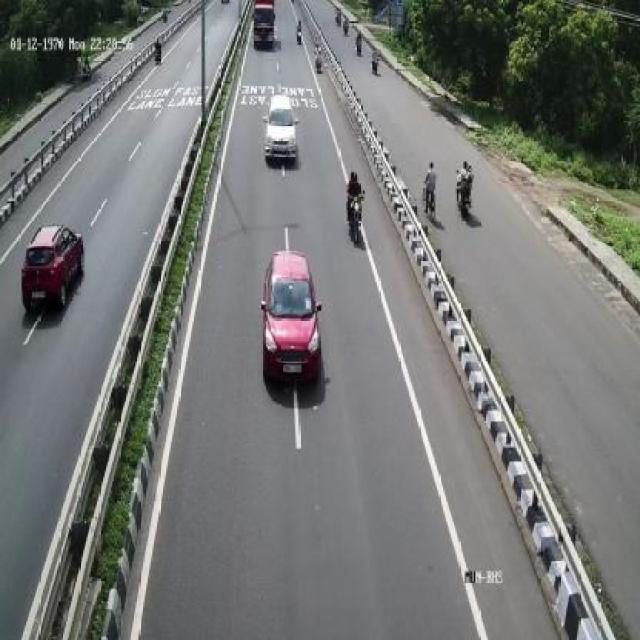car: (260, 240, 325, 392), (19, 218, 84, 316), (265, 86, 300, 168)
